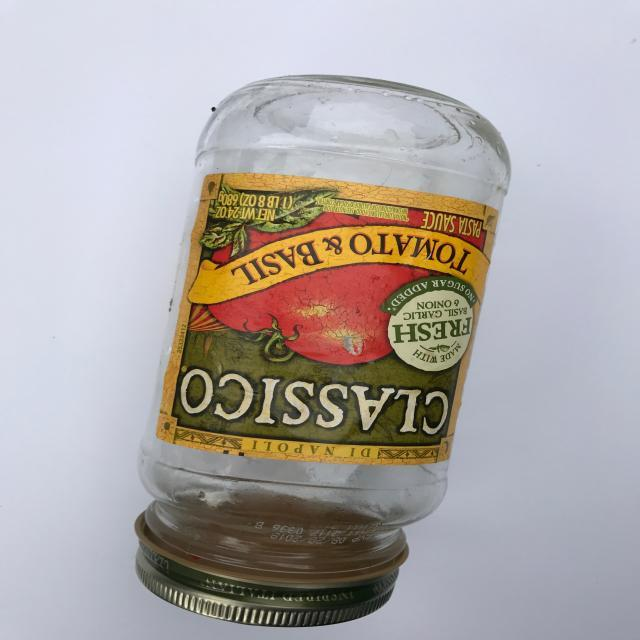glass: (133, 74, 514, 640)
